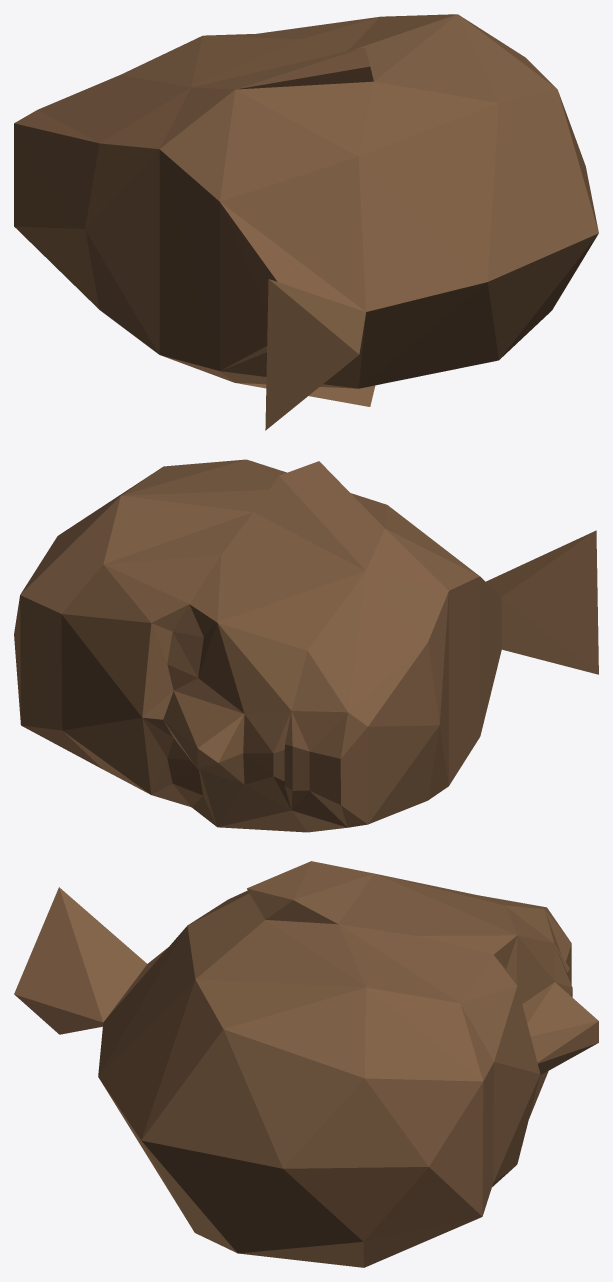
File: HUM_HEAD_PFEIFFER.OBJ
3 views of the same model, one above another, from view 1: azimuth 30°, elevation 25°; view 2: azimuth 150°, elevation 25°; view 3: azimuth 270°, elevation 25° (orthographic). The views are drawn at different scales.
Parts seen in each view (by area): view 1: HUM_HEAD_PFEIFFER; view 2: HUM_HEAD_PFEIFFER; view 3: HUM_HEAD_PFEIFFER.
Boxes of the visible parts, x1=… form: HUM_HEAD_PFEIFFER: x1=14, y1=14, x2=598, y2=430; HUM_HEAD_PFEIFFER: x1=14, y1=459, x2=598, y2=832; HUM_HEAD_PFEIFFER: x1=14, y1=861, x2=598, y2=1267.
Bounding box in the file's own units: 0.2464 × 0.1823 × 0.2879.
